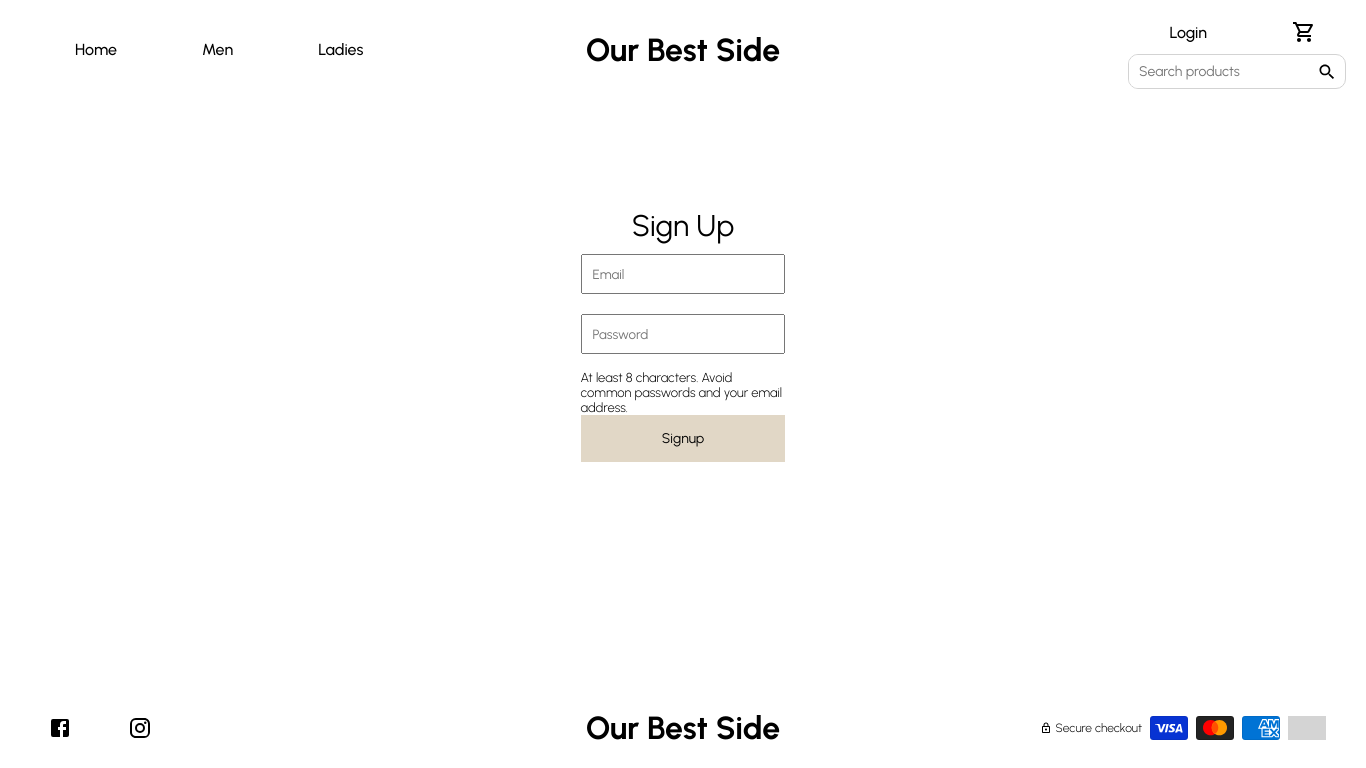
Test: Signup › shows the server's message when the email is taken
Step 1. Type "new@example.com" into the field with placeholder "Email" → (683, 274), box [580,254,785,294]
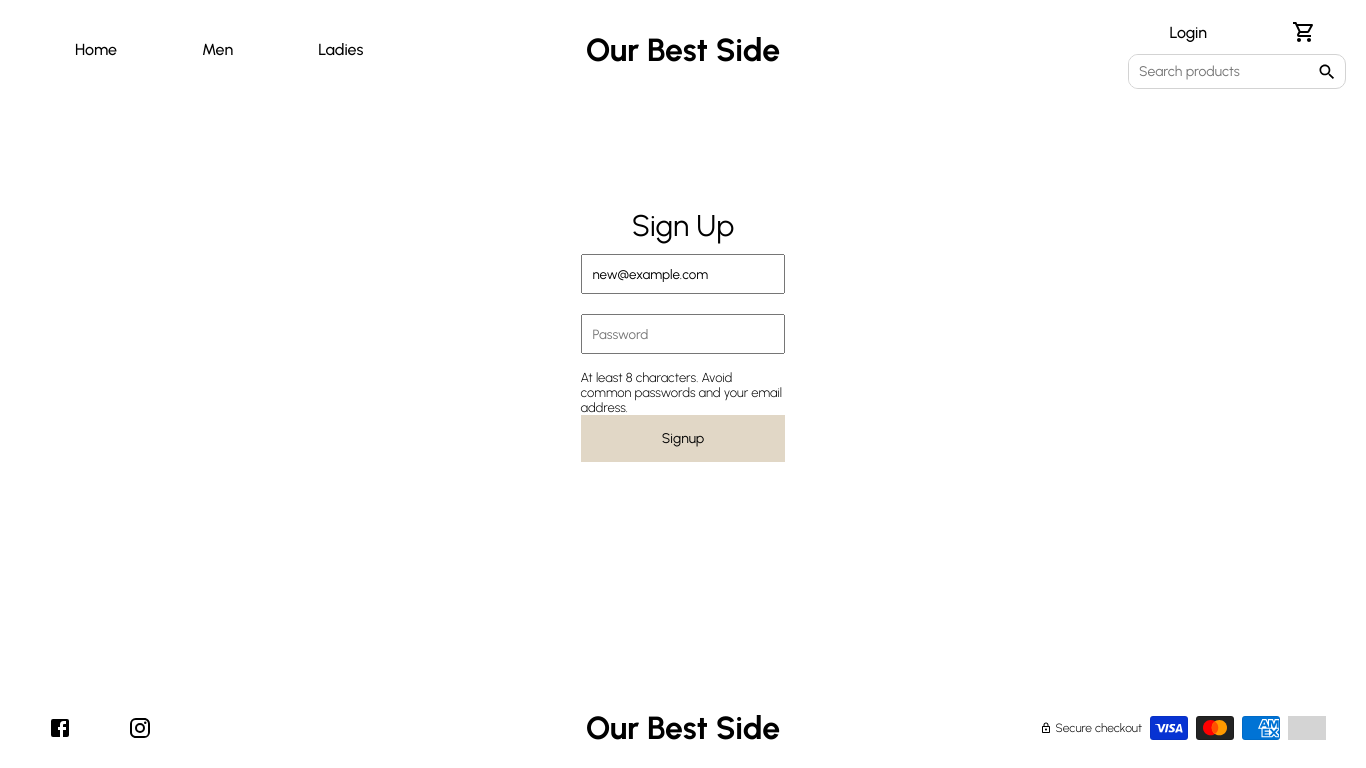
Step 2. Type "password123" into the password field with placeholder "Password" → (683, 334), box [580,314,785,354]
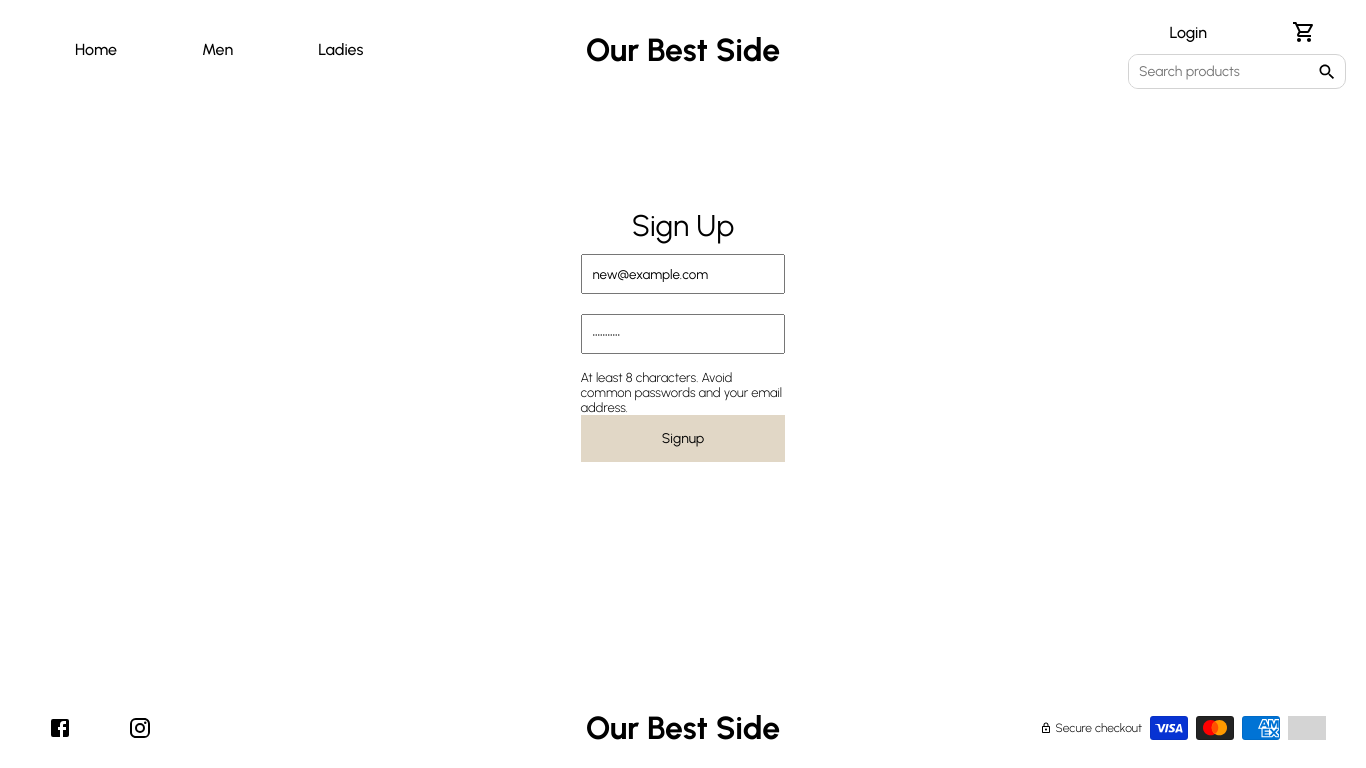
Step 3. Click the button "Signup" → click(683, 438), box [580,415,785,462]
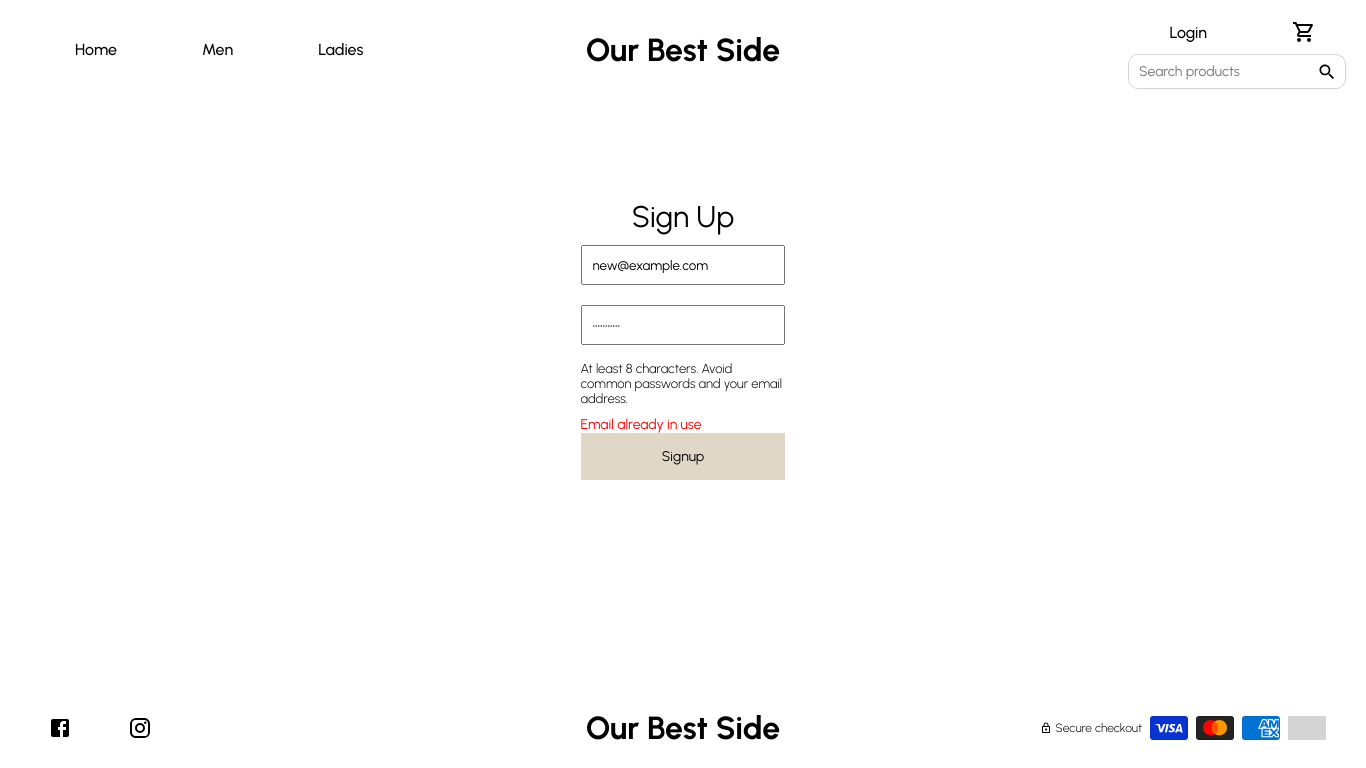
Expected: the message reads "Email already in use", [580,416,702,433]
